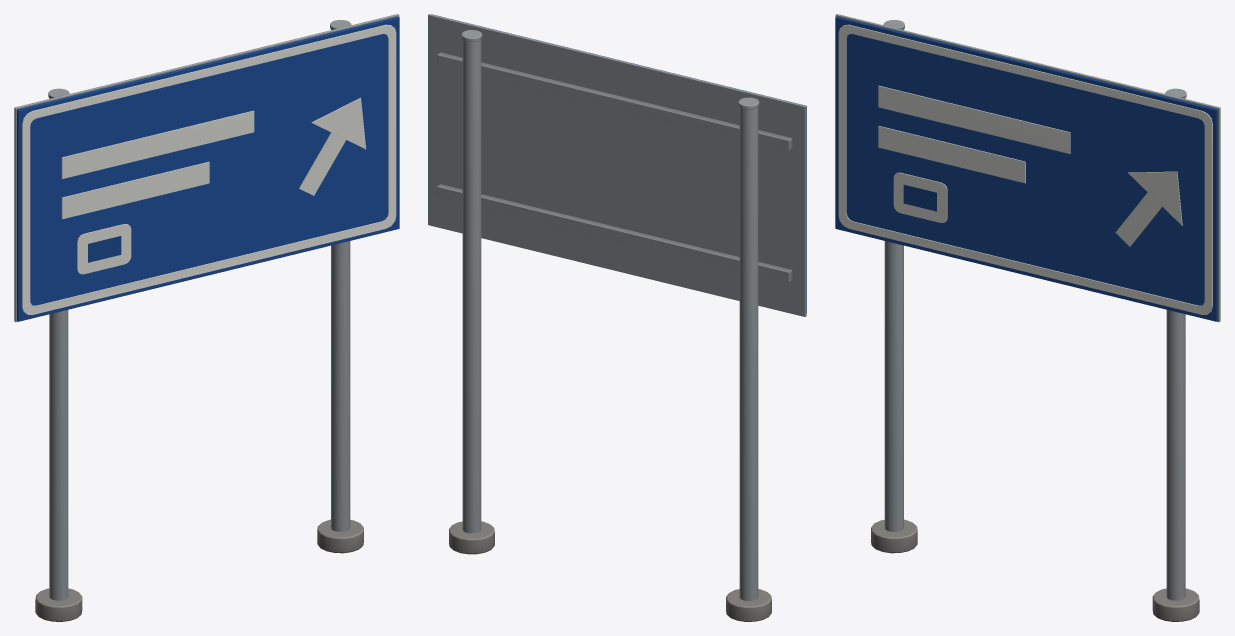
File: motorwaySign.glb
3 views of the same model, side by side, from view 1: azimuth 30°, elevation 25°; view 2: azimuth 150°, elevation 25°; view 3: azimuth 330°, elevation 25° (orthographic).
Visible parts, largest first — view 1: motorwaySign; view 2: motorwaySign; view 3: motorwaySign.
Part boxes in pixels (x1,y1,x2,y2): motorwaySign: (14,14,399,621); motorwaySign: (428,14,806,621); motorwaySign: (835,14,1220,621).
Size of the model in its own units: 3 by 3.9 by 0.32.
